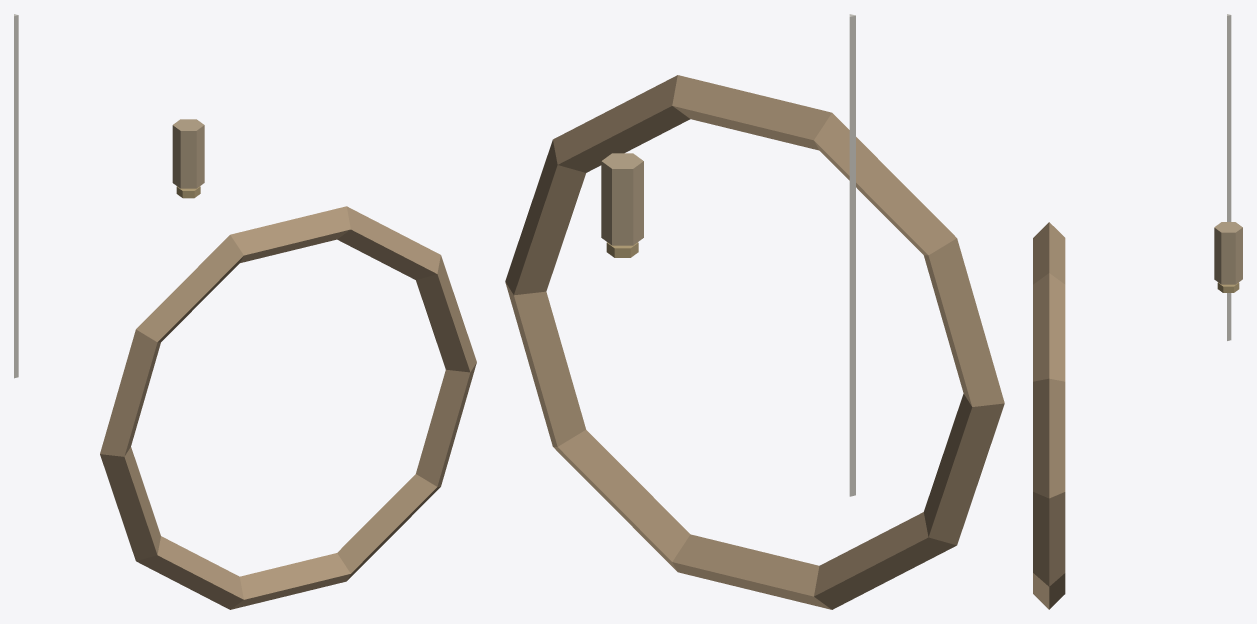
Rendered from warbow.glb.
3 renders of one model, left to right at view 1: azimuth 30°, elevation 25°; view 2: azimuth 150°, elevation 25°; view 3: azimuth 270°, elevation 25°, orthographic. The views are drawn at different scales.
Visible parts, largest first — view 1: warbow; view 2: warbow; view 3: warbow.
Boxes of the visible parts, left/top/right/bottom form: warbow: left=14, top=14, right=476, bottom=609; warbow: left=505, top=14, right=1004, bottom=609; warbow: left=1033, top=14, right=1242, bottom=609.
Bounding box in the file's own units: 1.09 × 1.52 × 0.585.
